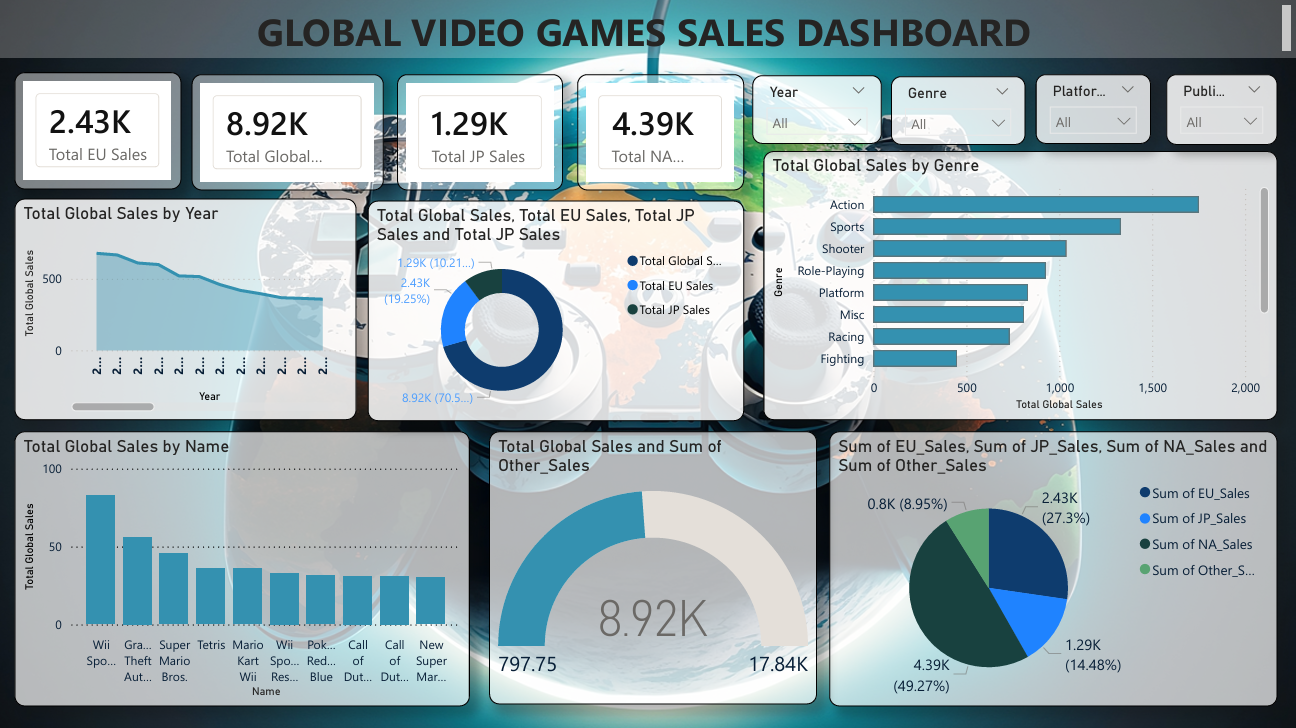

This screenshot's page, from the dashboard's own definition file:
{"tool":"powerbi","page":{"name":"Page 1","canvas":[1280,720],"ordinal":0},"visuals":[{"type":"textbox","box":[0,0,1279.8,57.1],"z":0},{"type":"cardVisual","fields":{"Data":["vgsales.Total EU Sales"]},"box":[14.3,71.4,164.3,115.5],"z":1000},{"type":"cardVisual","fields":{"Data":["vgsales.Total Global Sales"]},"box":[189.3,72.6,189.3,115.5],"z":2000},{"type":"cardVisual","fields":{"Data":["vgsales.Total JP Sales"]},"box":[391.7,72.6,164.3,115.5],"z":3000},{"type":"cardVisual","fields":{"Data":["vgsales.Total NA Sales"]},"box":[570.2,72.6,164.3,115.5],"z":4000},{"type":"clusteredBarChart","fields":{"Y":["vgsales.Total Global Sales"],"Category":["vgsales.Genre"]},"box":[753.6,148.8,508.3,266.7],"z":5000},{"type":"lineChart","fields":{"Y":["vgsales.Total Global Sales"],"Category":["vgsales.Year"]},"box":[14.3,196.4,338.1,219],"z":6000},{"type":"columnChart","fields":{"Category":["vgsales.Name"],"Y":["vgsales.Total Global Sales"]},"box":[14.3,426.2,450,271.4],"z":7000},{"type":"pieChart","fields":{"Y":["Sum(vgsales.EU_Sales)","Sum(vgsales.JP_Sales)","Sum(vgsales.NA_Sales)","Sum(vgsales.Other_Sales)"]},"box":[819,426.2,442.9,271.4],"z":8000},{"type":"slicer","fields":{"Values":["vgsales.Year"]},"box":[742.9,73.8,128.6,67.9],"z":9000},{"type":"slicer","fields":{"Values":["vgsales.Genre"]},"box":[879.8,75,133.3,67.9],"z":10000},{"type":"slicer","fields":{"Values":["vgsales.Platform"]},"box":[1022.6,72.6,114.3,69],"z":11000},{"type":"slicer","fields":{"Values":["vgsales.Publisher"]},"box":[1152.4,72.6,109.5,70.2],"z":12000},{"type":"gauge","fields":{"Y":["vgsales.Total Global Sales"],"MinValue":["Sum(vgsales.Other_Sales)"]},"box":[483.3,426.2,323.8,270.2],"z":13000},{"type":"donutChart","fields":{"Y":["vgsales.Total Global Sales","vgsales.Total EU Sales","vgsales.Total JP Sales","vgsales.Total JP Sales"]},"box":[363.1,197.9,371.6,218.4],"z":14000}]}

Visuals, with their boxes in screenshot pixels (x1, y1, x2, y2), scaled from the page's 1280x720 canvas onto the 1296x728 screenshot:
textbox: bbox(0, 0, 1295, 58)
cardVisual - vgsales.Total EU Sales: bbox(14, 72, 181, 189)
cardVisual - vgsales.Total Global Sales: bbox(192, 73, 383, 190)
cardVisual - vgsales.Total JP Sales: bbox(397, 73, 563, 190)
cardVisual - vgsales.Total NA Sales: bbox(577, 73, 744, 190)
clusteredBarChart - vgsales.Total Global Sales x vgsales.Genre: bbox(763, 150, 1278, 420)
lineChart - vgsales.Total Global Sales x vgsales.Year: bbox(14, 199, 357, 420)
columnChart - vgsales.Name x vgsales.Total Global Sales: bbox(14, 431, 470, 705)
pieChart - Sum(vgsales.EU_Sales) x Sum(vgsales.JP_Sales): bbox(829, 431, 1278, 705)
slicer - vgsales.Year: bbox(752, 75, 882, 143)
slicer - vgsales.Genre: bbox(891, 76, 1026, 144)
slicer - vgsales.Platform: bbox(1035, 73, 1151, 143)
slicer - vgsales.Publisher: bbox(1167, 73, 1278, 144)
gauge - vgsales.Total Global Sales x Sum(vgsales.Other_Sales): bbox(489, 431, 817, 704)
donutChart - vgsales.Total Global Sales x vgsales.Total EU Sales: bbox(368, 200, 744, 421)
